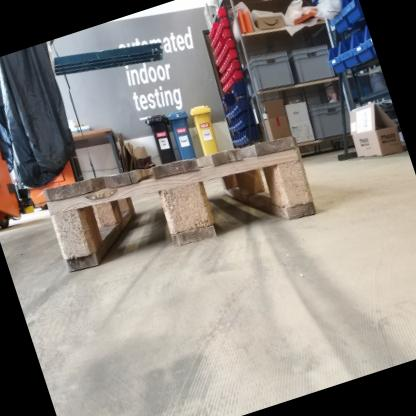BoxFace: (37, 123, 324, 279)
